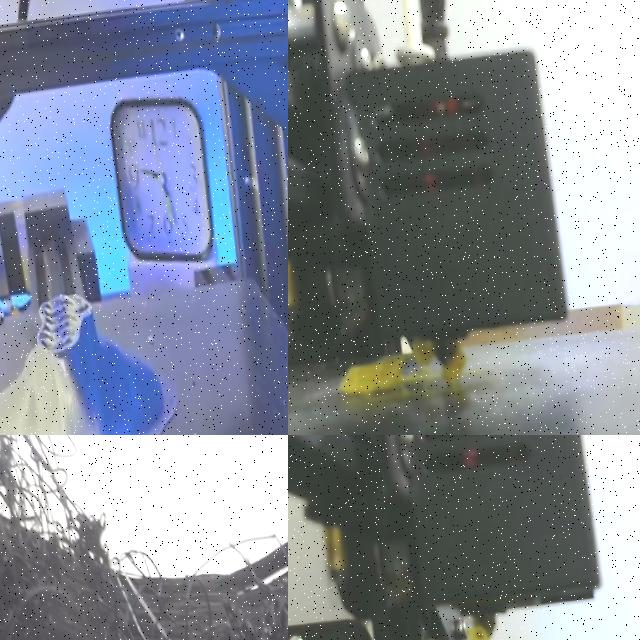spaghetti: (0, 460, 288, 640), (339, 340, 435, 396), (442, 346, 466, 383)
